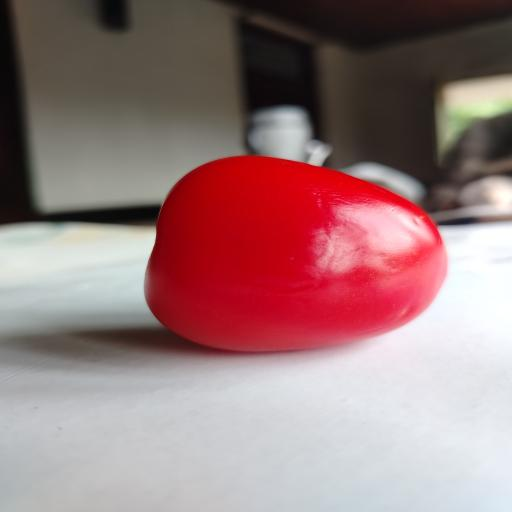ripe: (145, 156, 446, 351)
